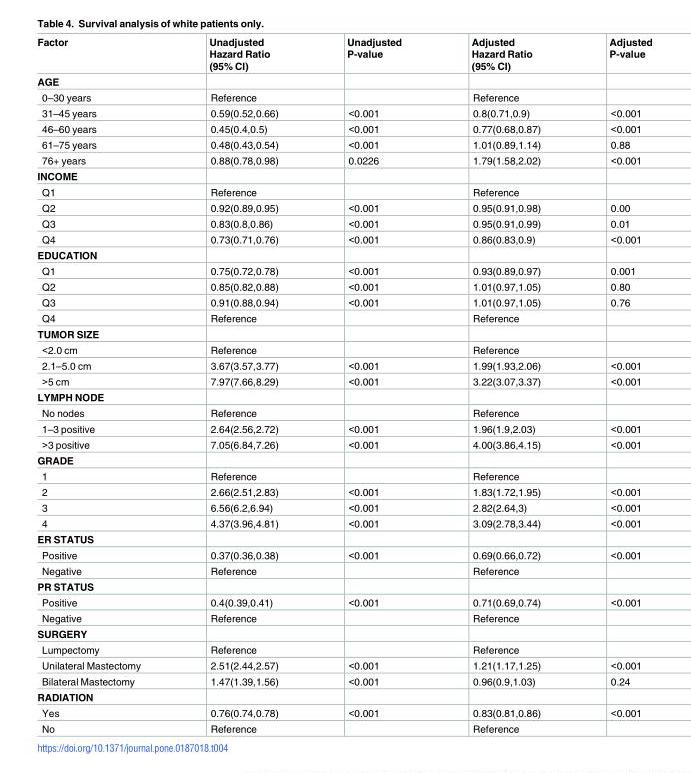table: (36, 37, 651, 733)
table column: (435, 37, 574, 733), (36, 37, 174, 733), (174, 37, 311, 733), (311, 37, 435, 733), (574, 37, 651, 733)
table column header: (36, 37, 651, 73)
table projected row header: (36, 73, 651, 89), (36, 168, 651, 184), (36, 389, 651, 405), (36, 452, 651, 468), (36, 626, 651, 642), (36, 247, 651, 262), (36, 326, 651, 341), (36, 531, 651, 546), (36, 579, 651, 594), (36, 689, 651, 704)
table row: (36, 37, 651, 73), (36, 546, 651, 563), (36, 704, 651, 721), (36, 73, 651, 89), (36, 104, 651, 120), (36, 120, 651, 136), (36, 136, 651, 152), (36, 152, 651, 168), (36, 168, 651, 184), (36, 199, 651, 215), (36, 215, 651, 231), (36, 231, 651, 247), (36, 262, 651, 278), (36, 278, 651, 294), (36, 294, 651, 310), (36, 310, 651, 326), (36, 341, 651, 357), (36, 357, 651, 373), (36, 373, 651, 389), (36, 389, 651, 405), (36, 420, 651, 436), (36, 436, 651, 452), (36, 452, 651, 468), (36, 483, 651, 499), (36, 499, 651, 515), (36, 515, 651, 531), (36, 563, 651, 579), (36, 594, 651, 610), (36, 610, 651, 626), (36, 626, 651, 642), (36, 657, 651, 673), (36, 673, 651, 689), (36, 89, 651, 104), (36, 184, 651, 199), (36, 247, 651, 262), (36, 326, 651, 341), (36, 405, 651, 420), (36, 468, 651, 483), (36, 531, 651, 546), (36, 579, 651, 594), (36, 642, 651, 657), (36, 689, 651, 704), (36, 721, 651, 733)
